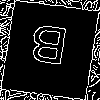B: (25, 24, 71, 74)
